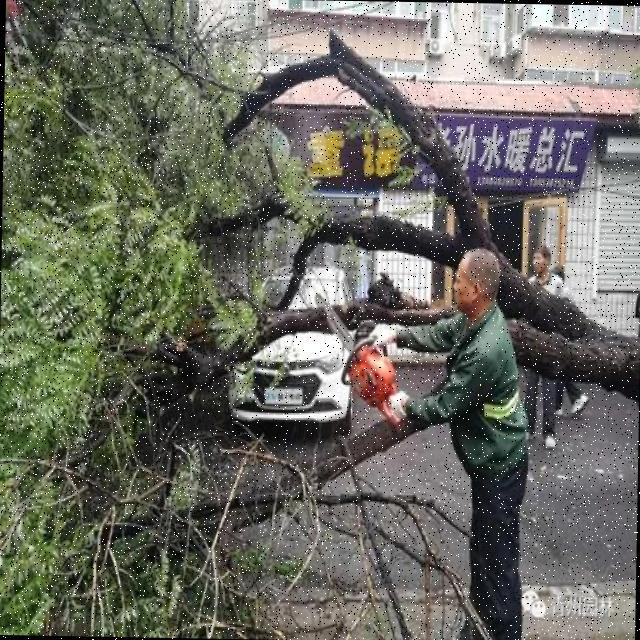fallen_object: (121, 24, 640, 549)
